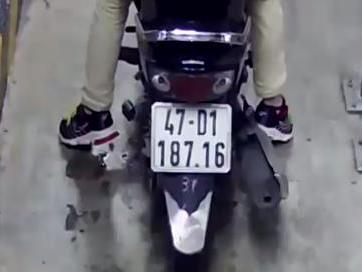num_plate: (151, 102, 232, 173)
